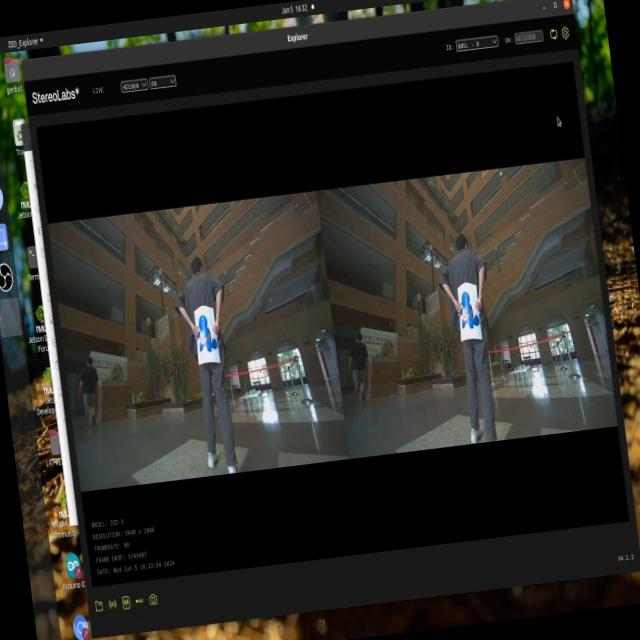blue: (456, 292, 484, 341), (194, 314, 221, 361)
